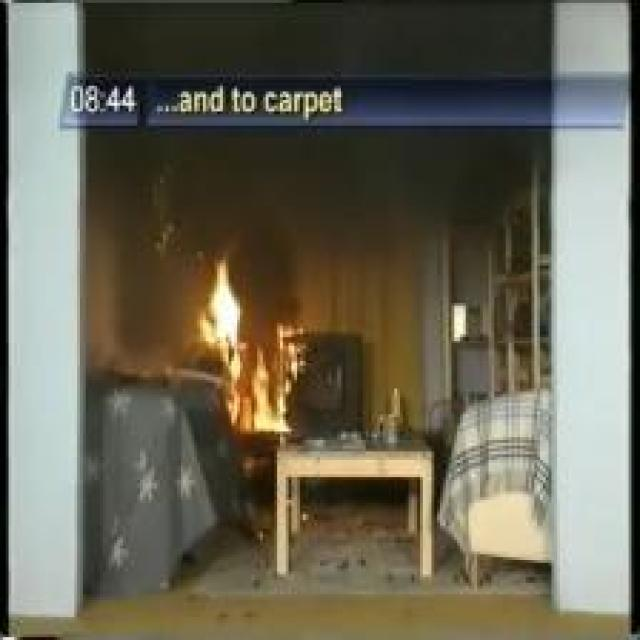fire: (194, 252, 300, 442)
